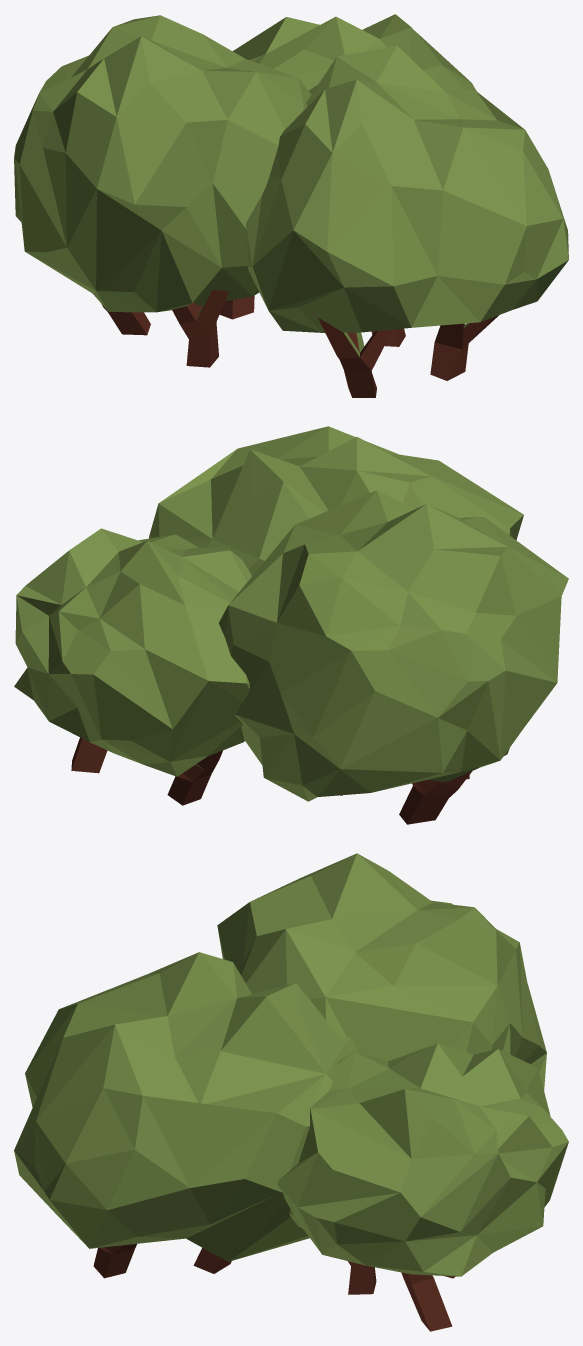
File: Bush.fbx
The picture shows the model from 3 angles, top to bottom: view 1: azimuth 30°, elevation 25°; view 2: azimuth 150°, elevation 25°; view 3: azimuth 270°, elevation 25°; orthographic projection. The views are drawn at different scales.
Parts seen in each view (by area): view 1: Bush; view 2: Bush; view 3: Bush.
Part boxes in pixels (left/top/right/bottom): Bush: left=14, top=14, right=568, bottom=397; Bush: left=14, top=426, right=568, bottom=824; Bush: left=14, top=853, right=568, bottom=1331.
Bounding box in the file's own units: 171 × 106 × 168.
